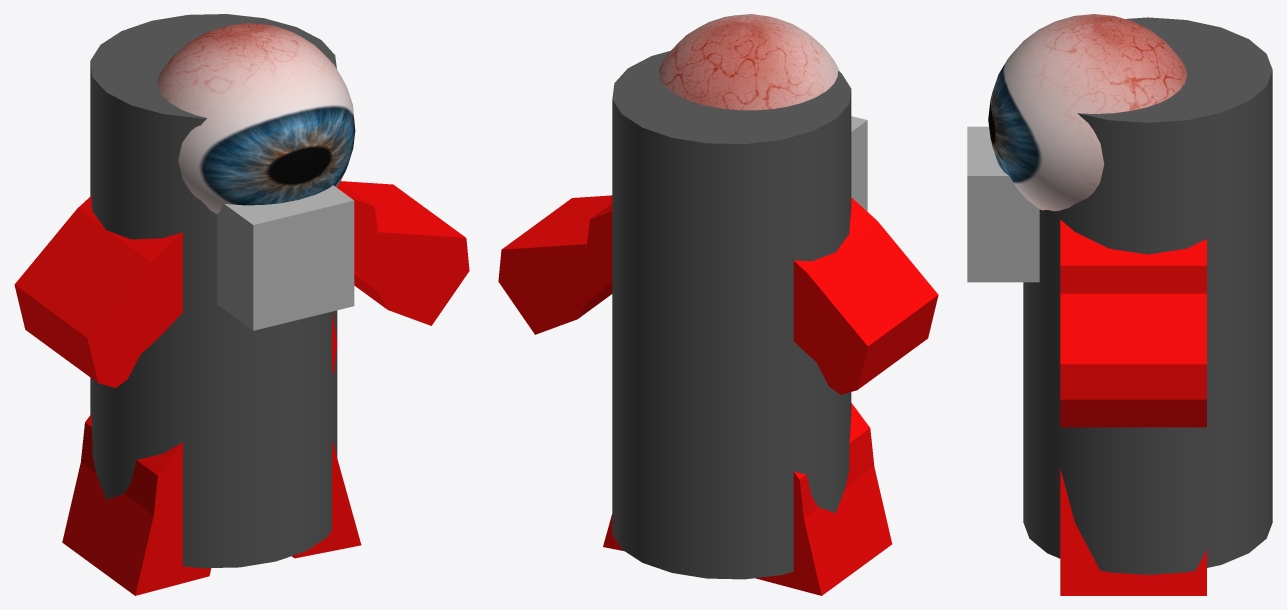
File: PlayerObj.fbx
3 views of the same model, side by side, from view 1: azimuth 30°, elevation 25°; view 2: azimuth 150°, elevation 25°; view 3: azimuth 270°, elevation 25° (orthographic). The views are drawn at different scales.
Visible parts, largest first — view 1: PlayerObj, Plane, Sphere, r; view 2: PlayerObj, Plane, Sphere, r; view 3: PlayerObj, Plane, Sphere, r.
Part boxes in pixels (<box>): PlayerObj: <box>90,14,337,568</box>; Plane: <box>14,181,469,595</box>; Sphere: <box>157,23,355,213</box>; r: <box>217,185,354,330</box>; PlayerObj: <box>612,51,851,579</box>; Plane: <box>498,195,938,595</box>; Sphere: <box>659,14,839,110</box>; r: <box>851,116,867,211</box>; PlayerObj: <box>1023,17,1272,574</box>; Plane: <box>1060,220,1206,595</box>; Sphere: <box>988,14,1186,211</box>; r: <box>967,126,1039,282</box>.
Size of the model in its own units: 178 by 233 by 123.
Materials: 4 (1 with a texture image).
